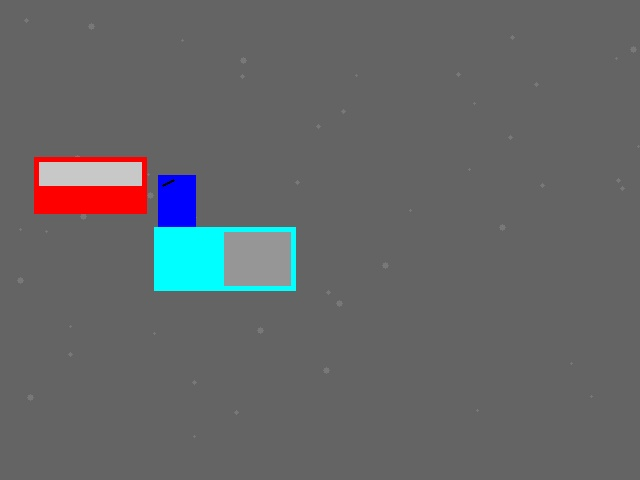car: (34, 157, 146, 213)
motorcycle: (158, 175, 195, 250)
truck: (154, 227, 295, 290)
